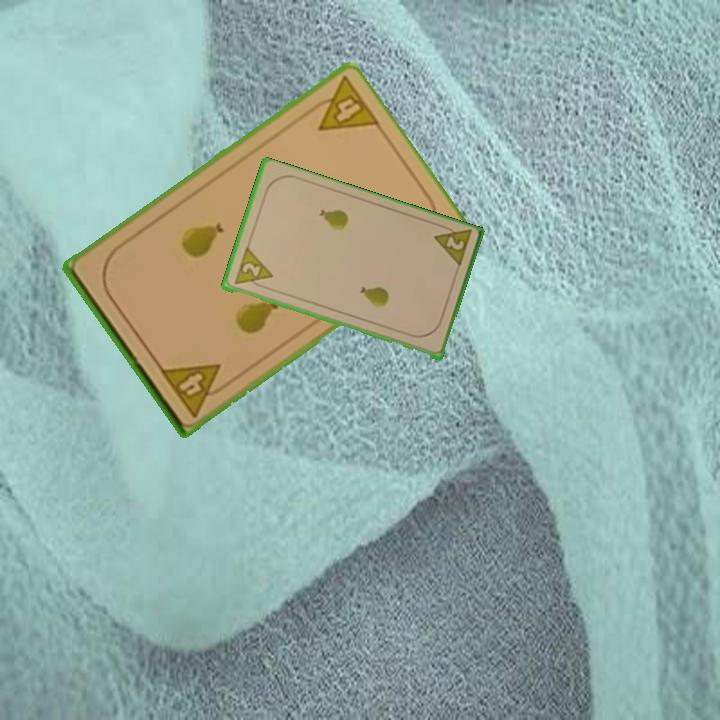2p: (430, 221, 474, 272), (230, 245, 275, 291)
4p: (300, 73, 382, 134), (156, 359, 233, 420)
